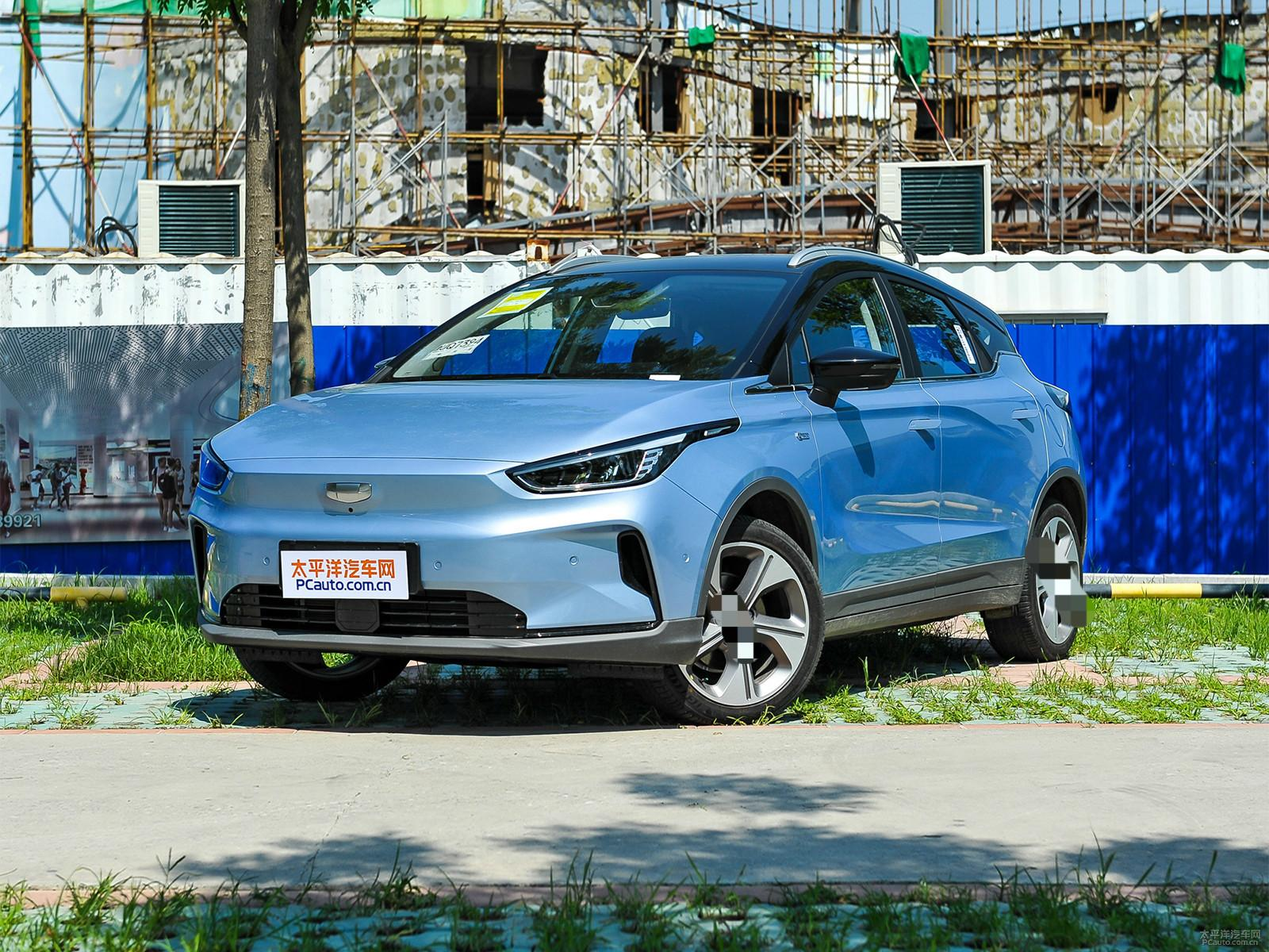GEOMETRY: (326, 483, 372, 502)
